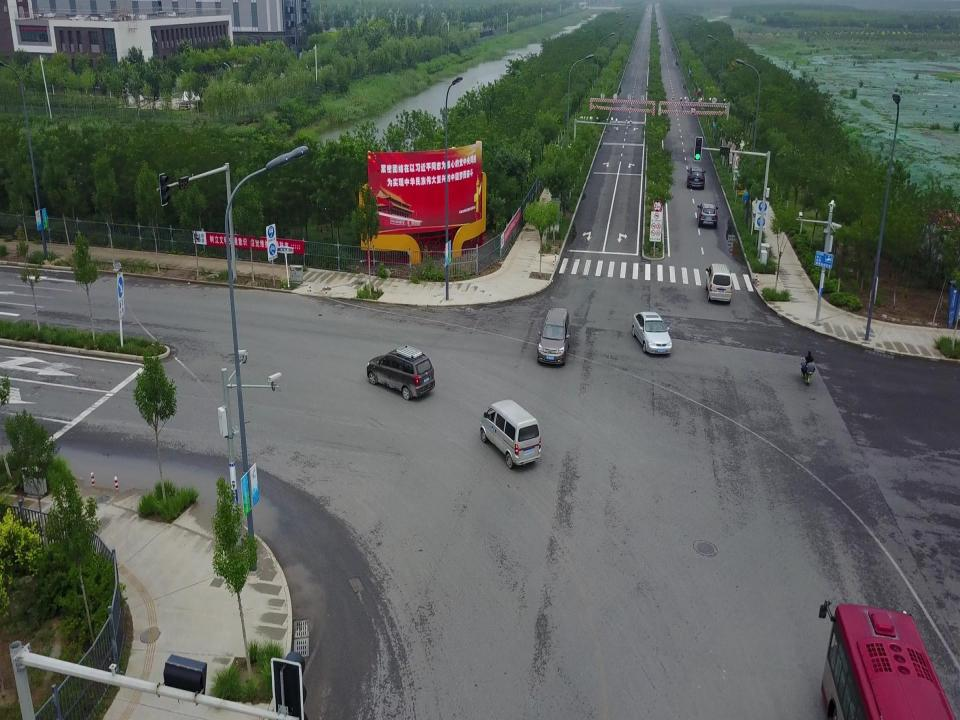bus: (820, 598, 956, 716)
car: (367, 346, 435, 402), (536, 307, 570, 365), (632, 311, 672, 355), (696, 202, 718, 227), (686, 166, 706, 189)
van: (479, 399, 541, 468), (705, 262, 733, 303)
